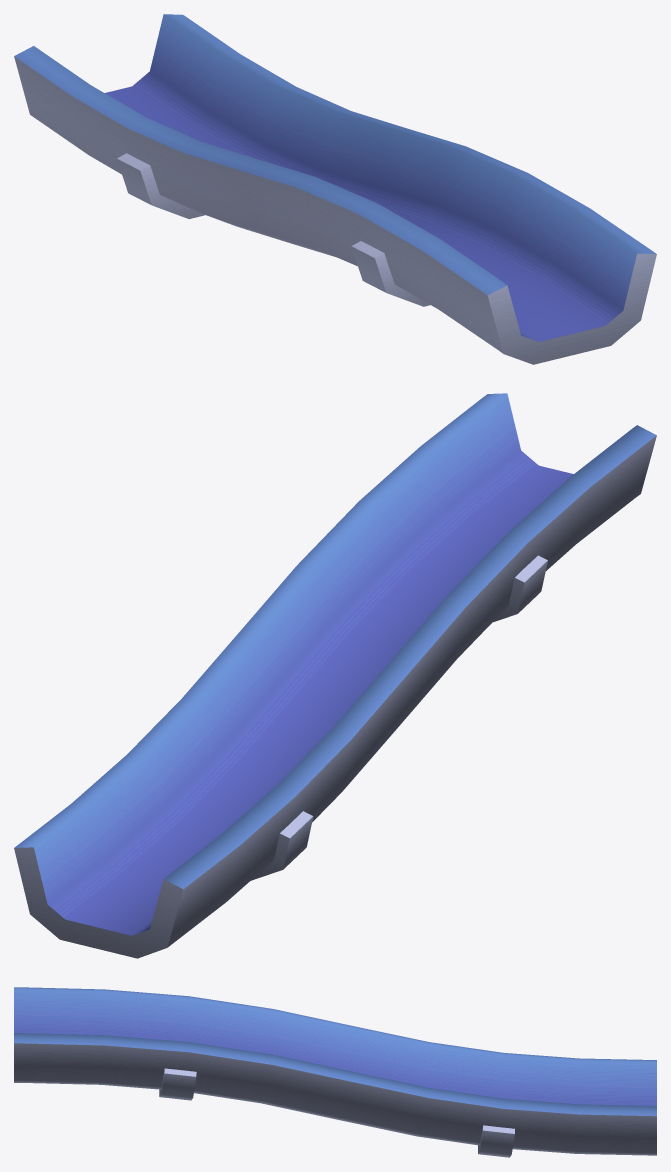
Rendered from coaster-flume-straight-hill-complete-half.glb.
3 renders of one model, top to bottom at view 1: azimuth 30°, elevation 25°; view 2: azimuth 150°, elevation 25°; view 3: azimuth 270°, elevation 25°, orthographic. The views are drawn at different scales.
Parts seen in each view (by area): view 1: coaster-flume-straight-hill-complete-half; view 2: coaster-flume-straight-hill-complete-half; view 3: coaster-flume-straight-hill-complete-half.
Part boxes in pixels (x1,y1,x2,y2): coaster-flume-straight-hill-complete-half: (14, 14, 656, 364); coaster-flume-straight-hill-complete-half: (14, 393, 656, 958); coaster-flume-straight-hill-complete-half: (14, 987, 656, 1157).
Size of the model in its own units: 0.8446 by 0.9084 by 4.
1 material, 1 textured.
